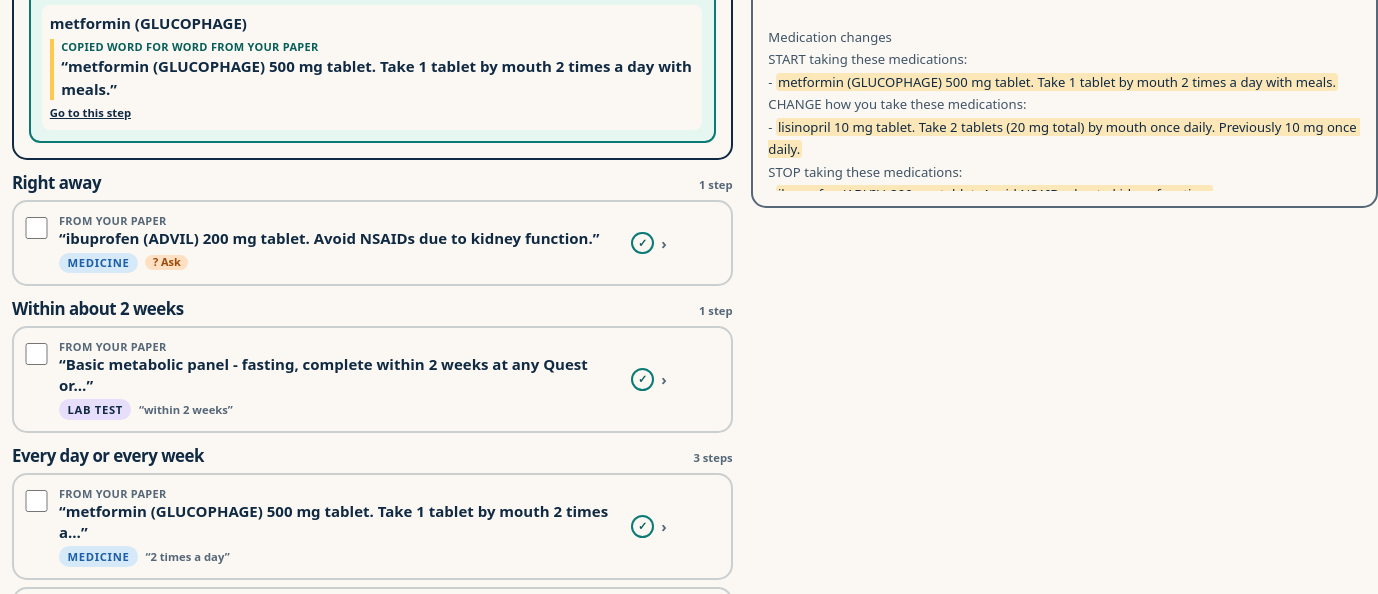
Test case: the expanded step › uncertified: the paper's words first, labelled as copied word for word, then the explanation, labelled not double-checked
This screenshot has width=1378, height=594.
(page scrolled)
Click the 2nd button at (113, 347), box [59, 339, 667, 420]
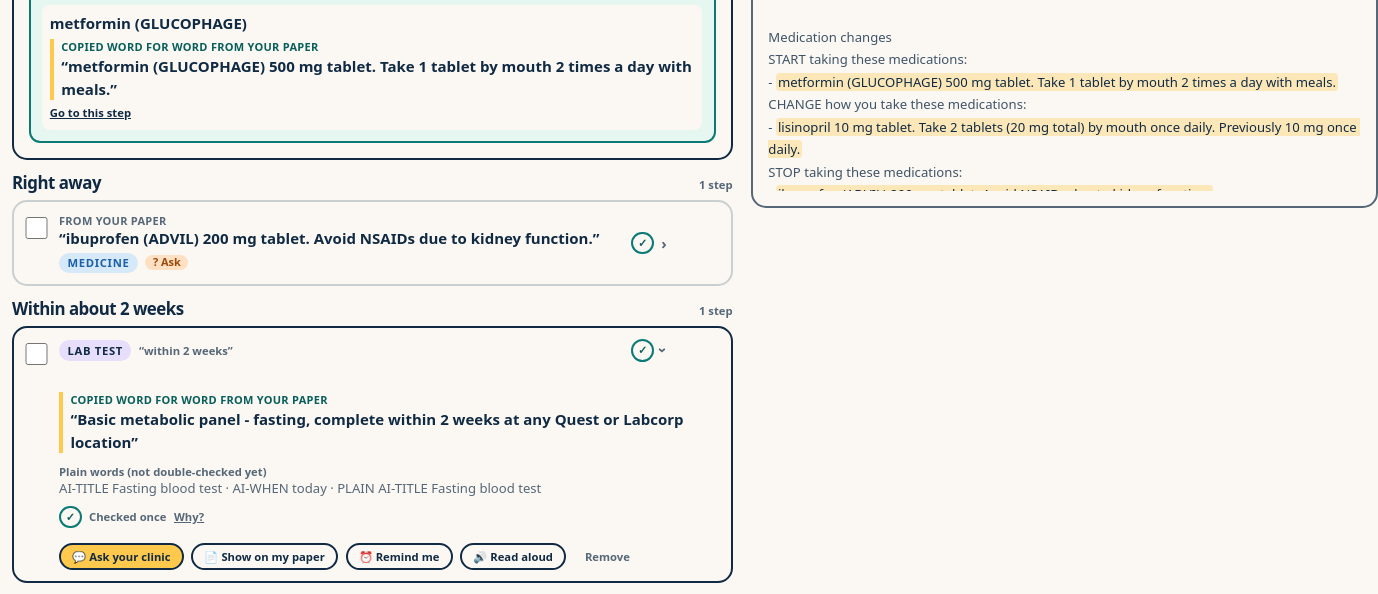
Check: the element that starts with "Plain words (not double-checked yet)" is shown, box [59, 464, 266, 479]
